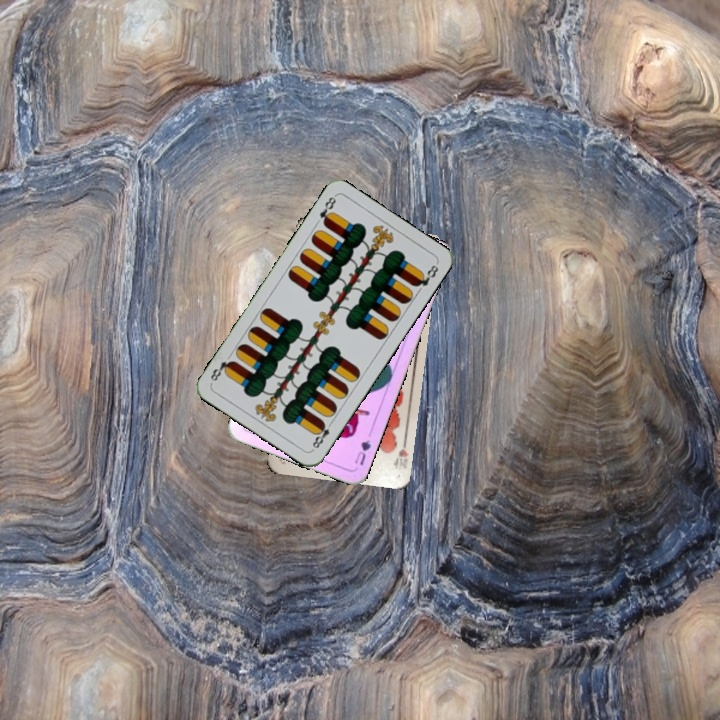E8: (308, 417, 336, 452), (315, 192, 339, 229)
GU: (351, 436, 374, 468)
H10: (390, 434, 410, 473)
